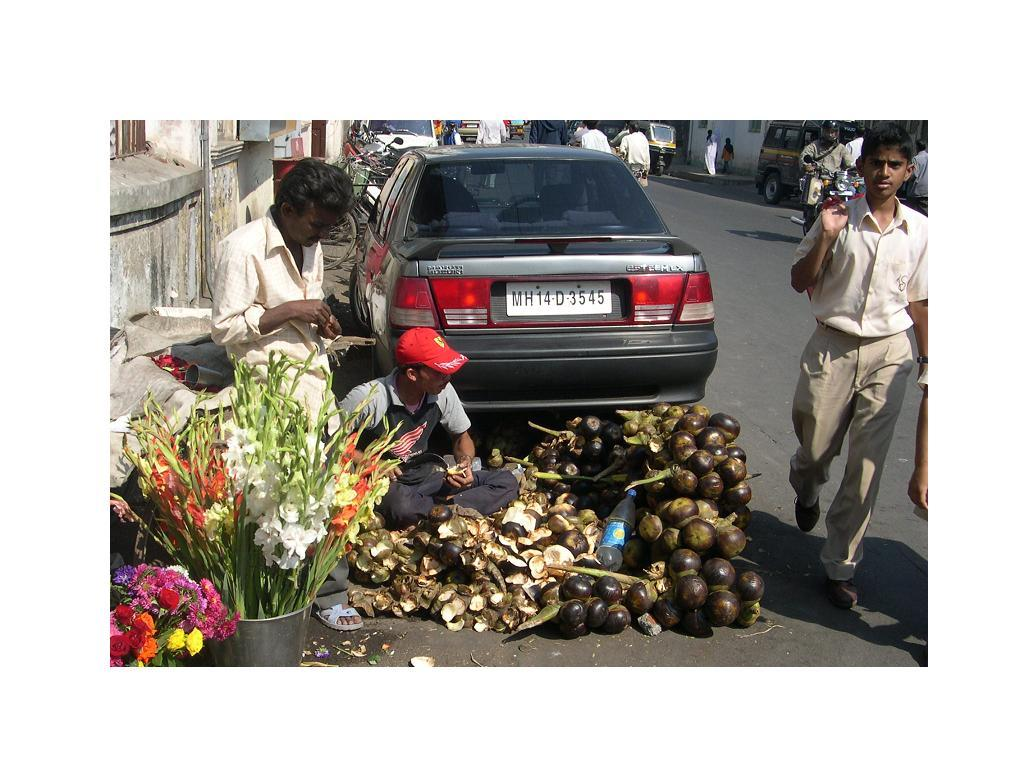license plate: (505, 279, 612, 314)
